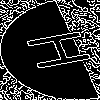H: (24, 25, 100, 72)
